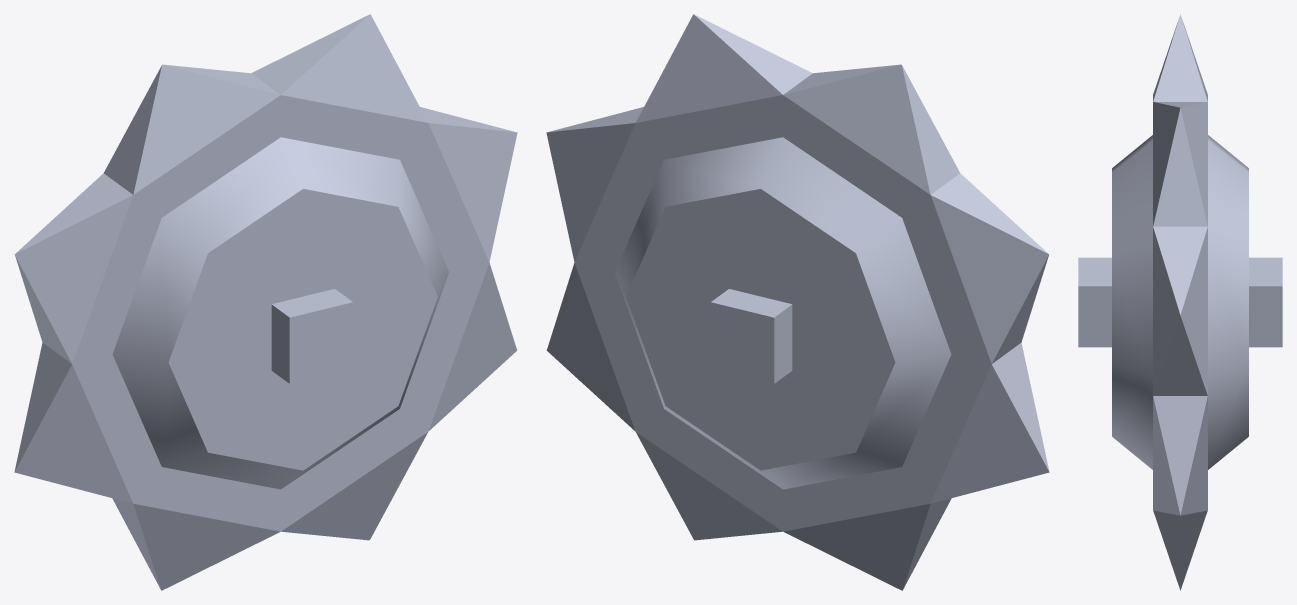
Rendered from saw.glb.
The picture shows the model from 3 angles, left to right: view 1: azimuth 30°, elevation 25°; view 2: azimuth 150°, elevation 25°; view 3: azimuth 270°, elevation 25°; orthographic projection. The views are drawn at different scales.
Visible parts, largest first — view 1: saw; view 2: saw; view 3: saw.
Part boxes in pixels (x1,y1,x2,y2): saw: (14,14,517,590); saw: (546,14,1049,590); saw: (1078,14,1282,590).
Size of the model in its own units: 0.7937 by 0.7937 by 0.3033.
